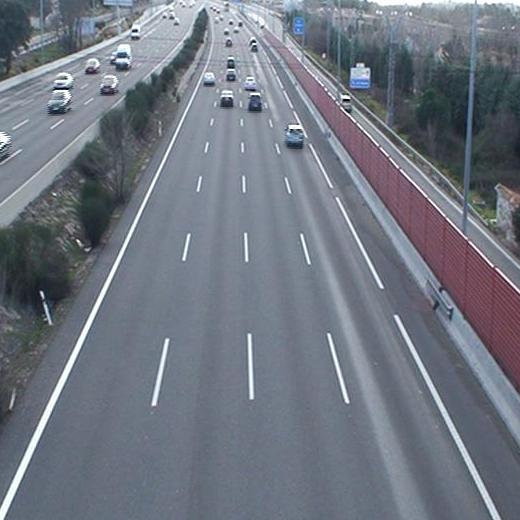car: (284, 124, 306, 148), (247, 92, 264, 113), (220, 90, 234, 106), (225, 67, 238, 82), (244, 77, 258, 90), (203, 71, 215, 86)
